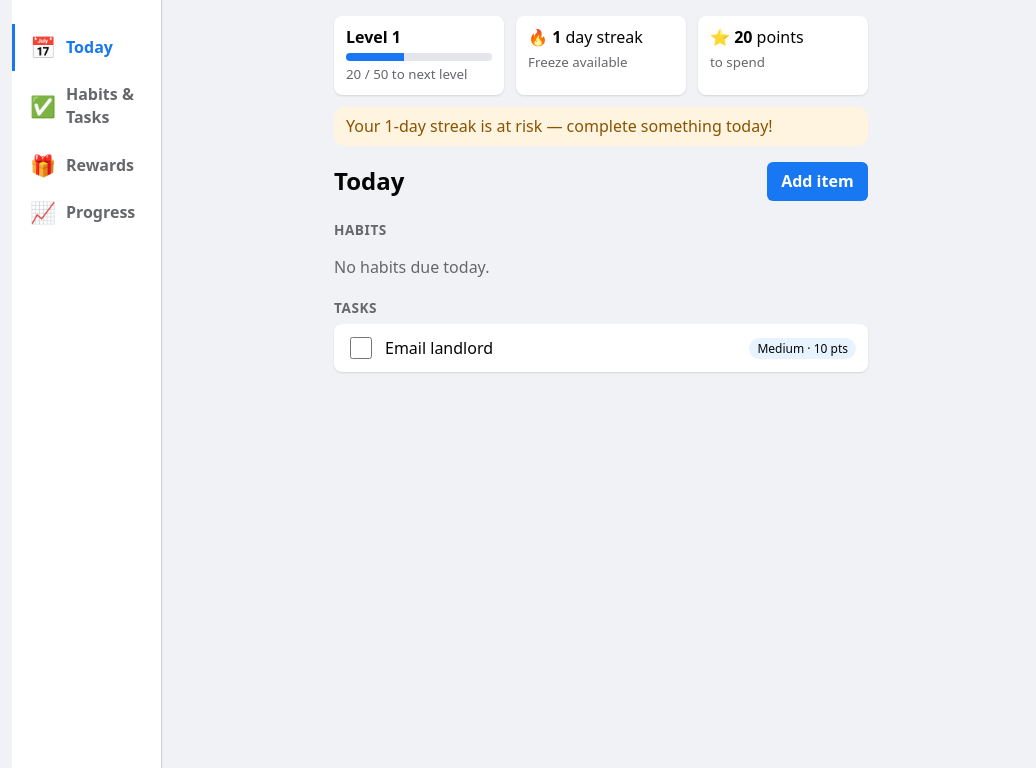
Test case: Habits & Tasks screen › edits a habit title
This screenshot has width=1036, height=768.
Step 1. Click the button "✅ Habits & Tasks" → (86, 106), box top-left (12, 71), bottom-right (161, 142)
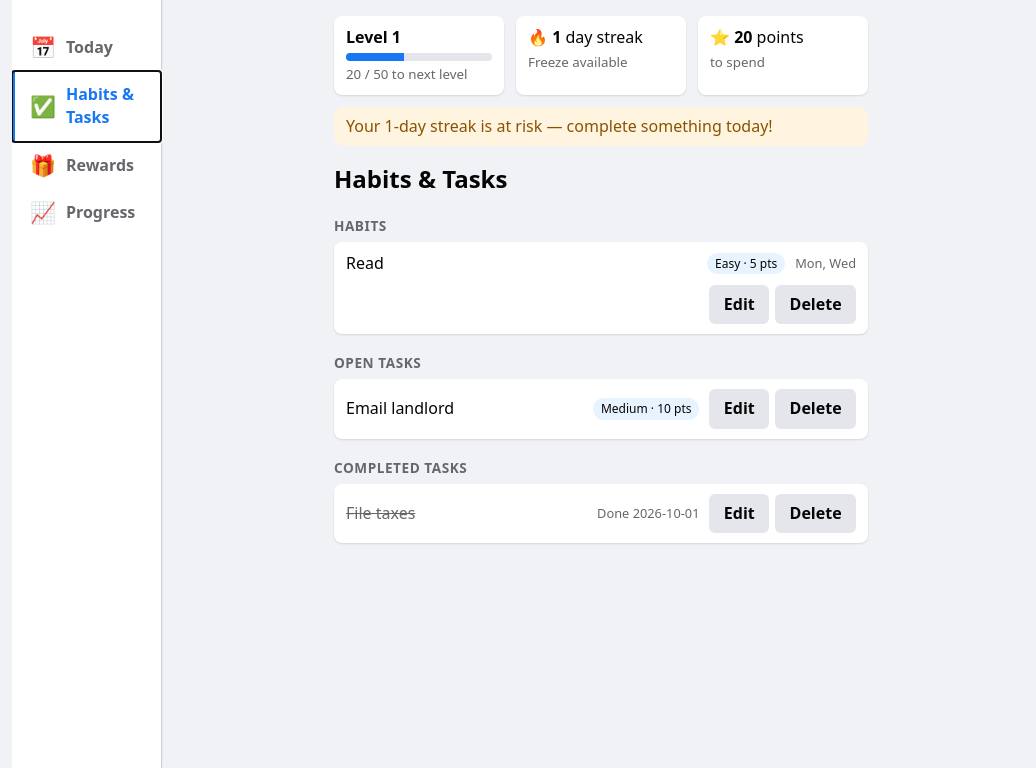
Step 2. Click the button named "edit read" → (739, 305), box top-left (710, 285), bottom-right (769, 324)
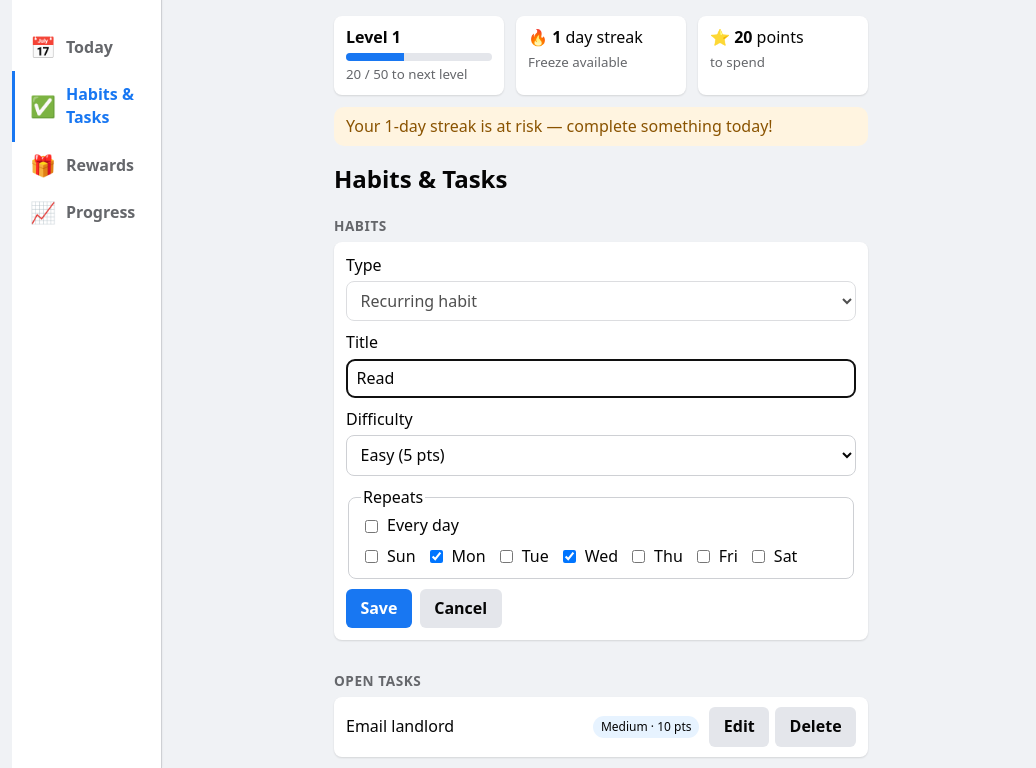
Step 3. Replace the text in the field labelled "Title" with "Read 20 pages" → (601, 378), box top-left (346, 358), bottom-right (856, 398)
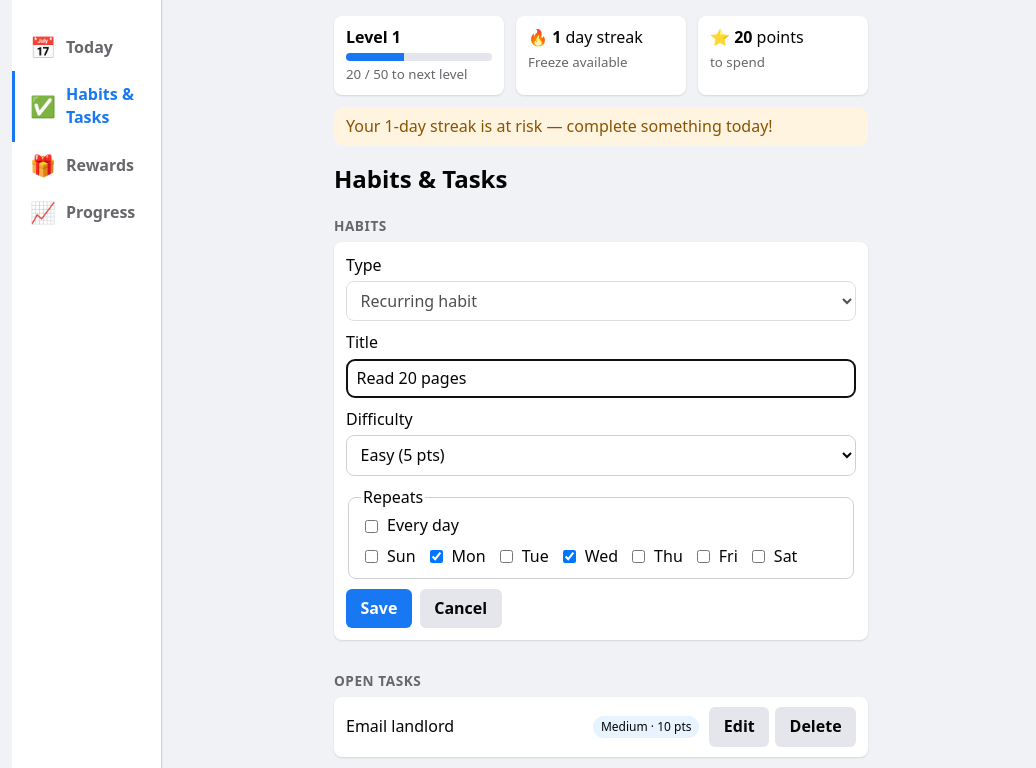
Step 4. Click the button "Save" → (379, 608), box top-left (346, 589), bottom-right (412, 628)
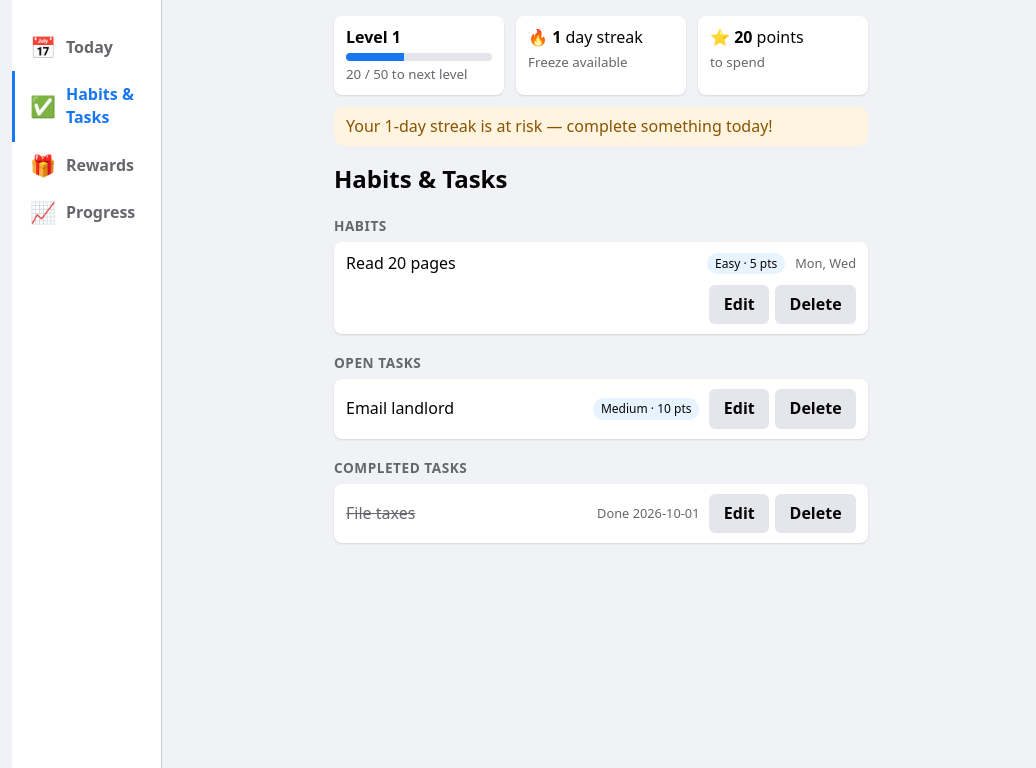
Now the text "Read 20 pages" is shown, box top-left (346, 252), bottom-right (456, 274)
